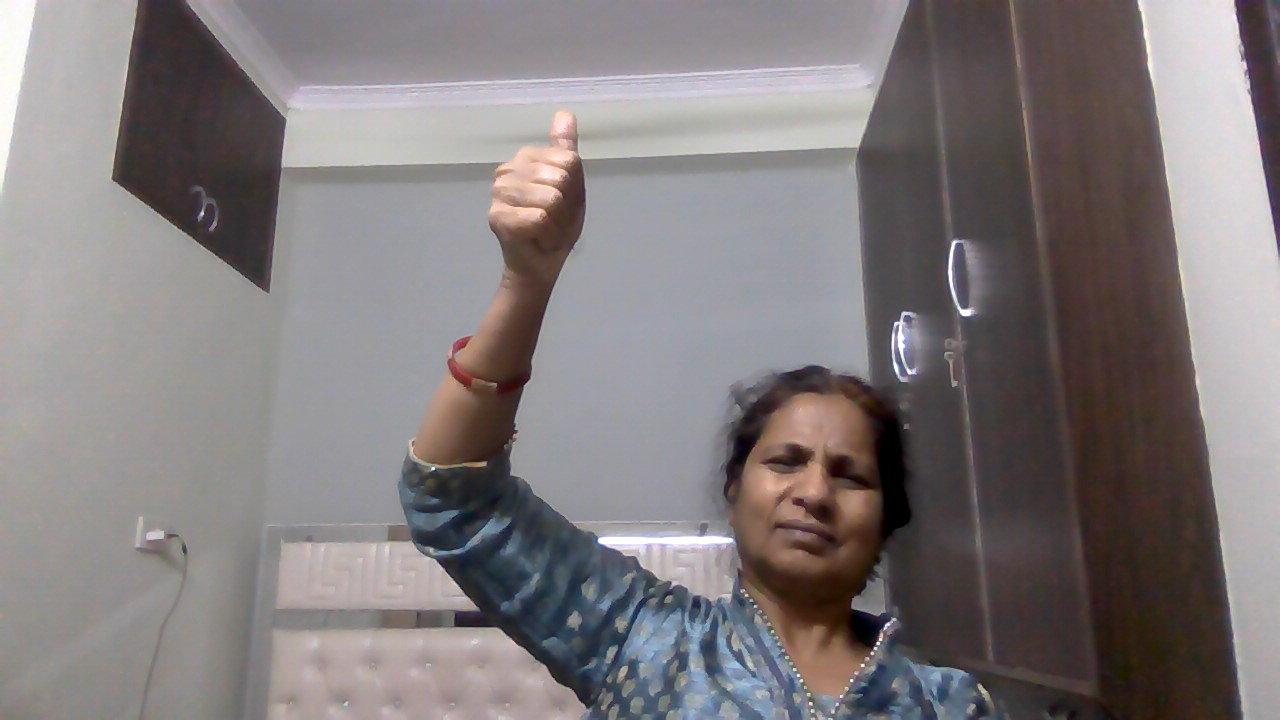Save: (473, 103, 604, 287)
